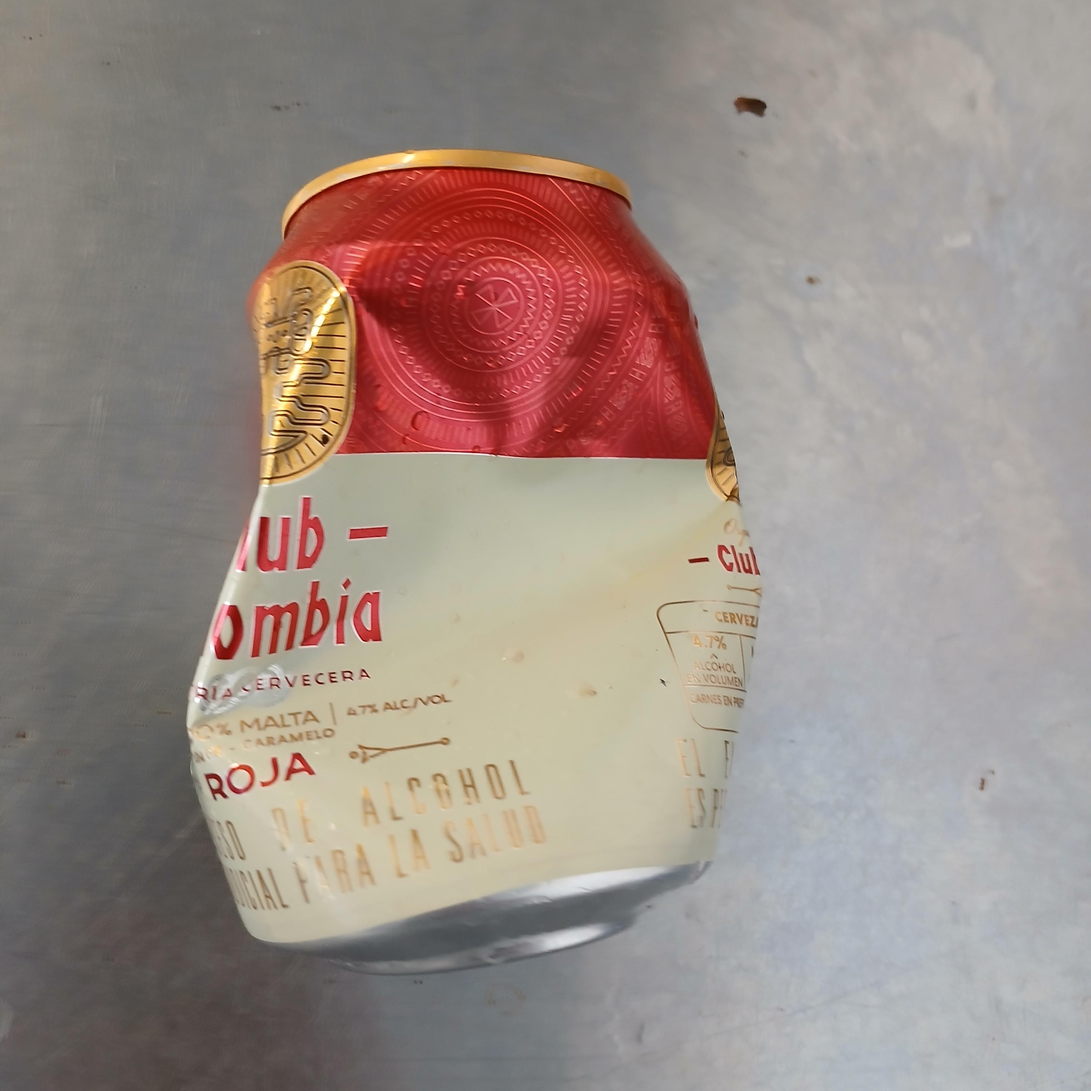Metal: (187, 148, 762, 978)
